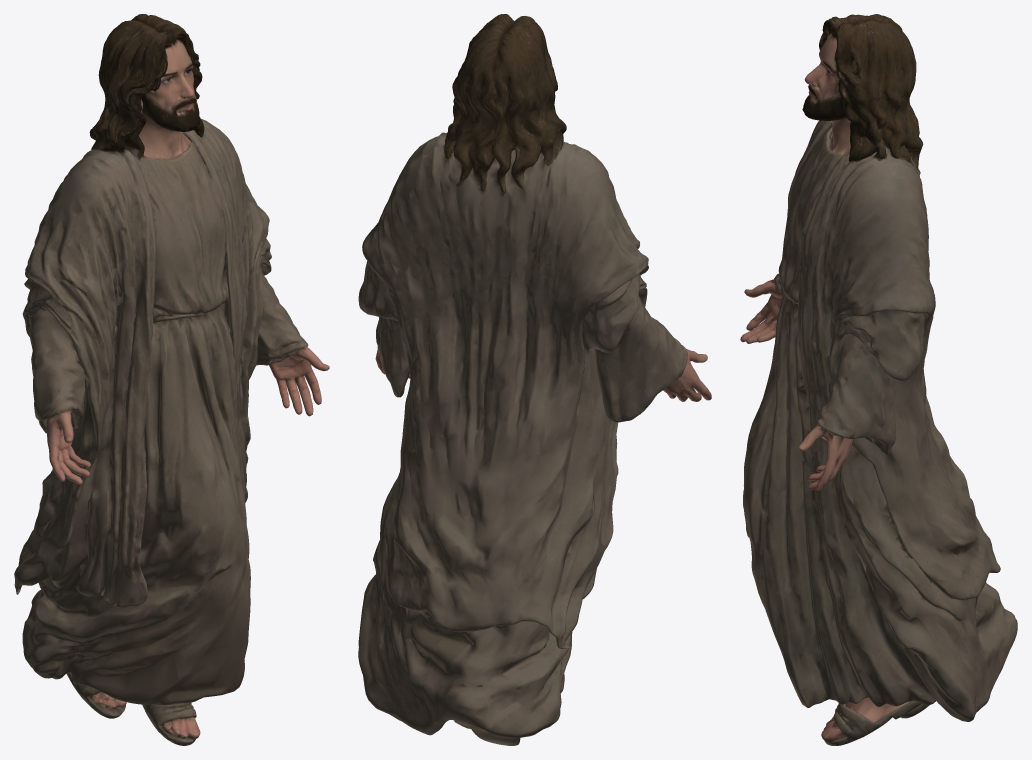
The model's file is son.glb.
3 renders of one model, left to right at view 1: azimuth 30°, elevation 25°; view 2: azimuth 150°, elevation 25°; view 3: azimuth 270°, elevation 25°, orthographic.
Size of the model in its own units: 0.8333 by 1.9 by 0.6684.
1 material, 1 textured.
